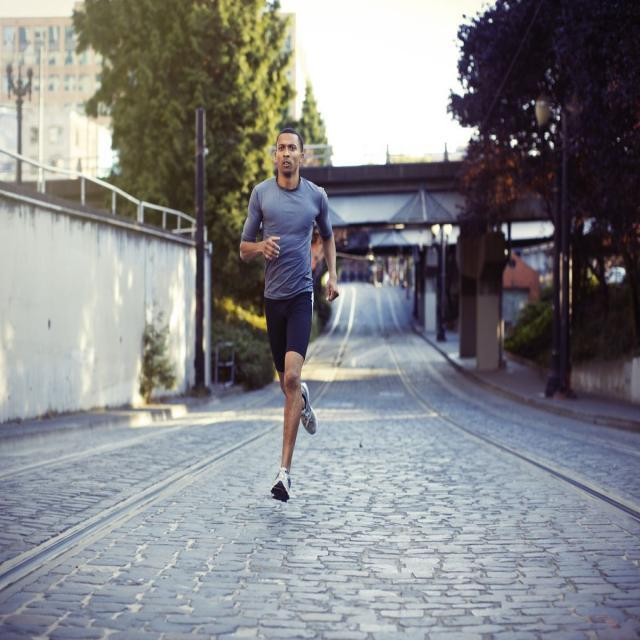person: (228, 110, 342, 506)
